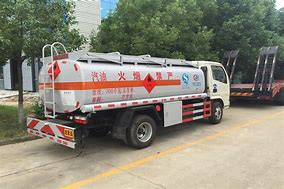oil truck: (26, 37, 233, 153)
